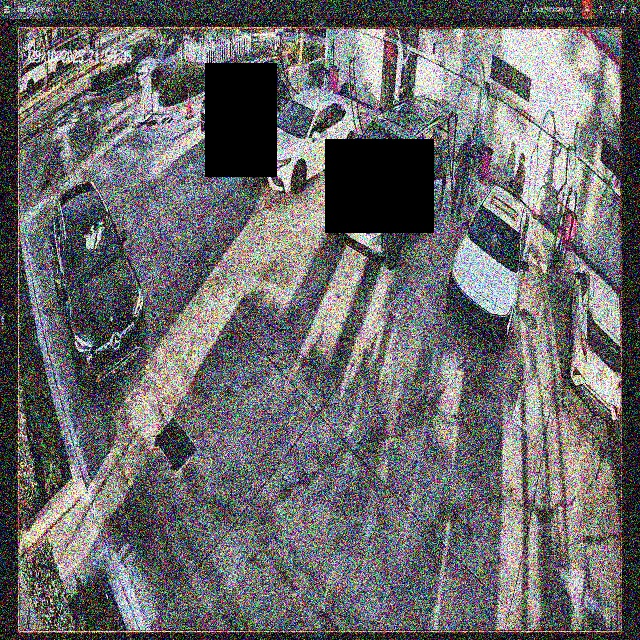Car: (327, 98, 451, 264), (450, 184, 530, 343), (250, 88, 361, 185)
